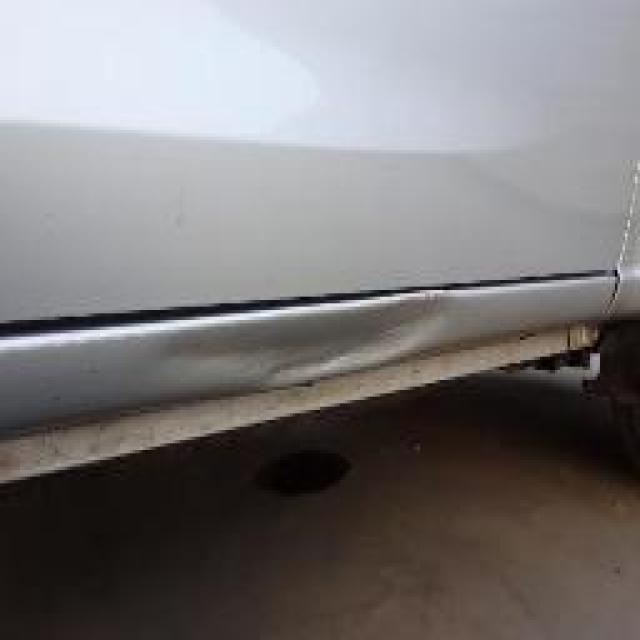Door: (112, 277, 472, 423)
